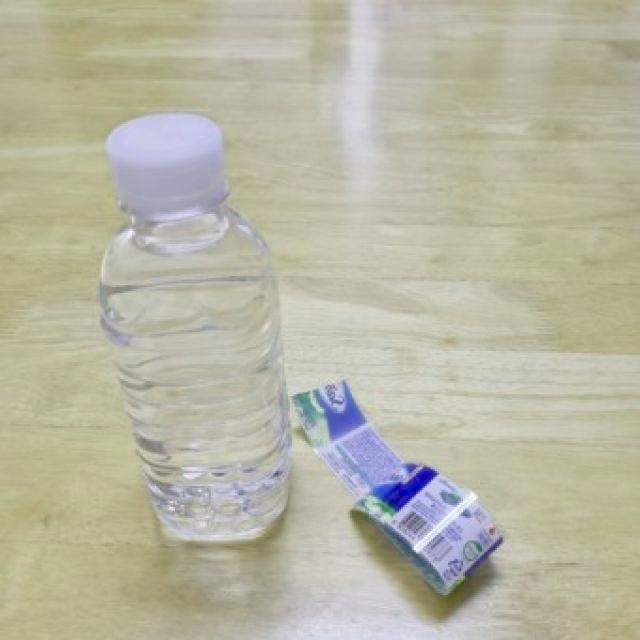bottle: (98, 112, 293, 542)
